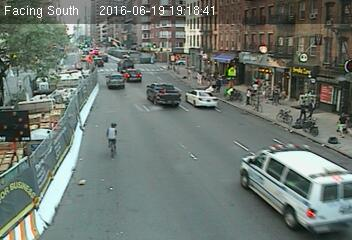neg: (93, 119, 126, 163), (335, 195, 351, 220), (325, 161, 337, 177), (329, 137, 338, 149)
pos: (305, 97, 322, 120), (295, 100, 310, 120)
